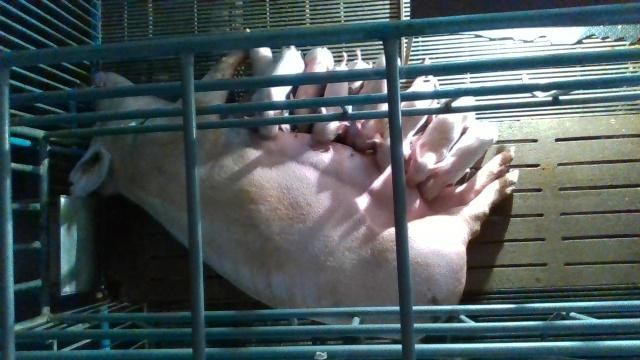piglet: (406, 95, 476, 186), (420, 120, 497, 200), (372, 82, 436, 172), (250, 46, 306, 140), (290, 47, 335, 133), (313, 51, 353, 141)
sow-sleep-lactate: (67, 51, 520, 342)
